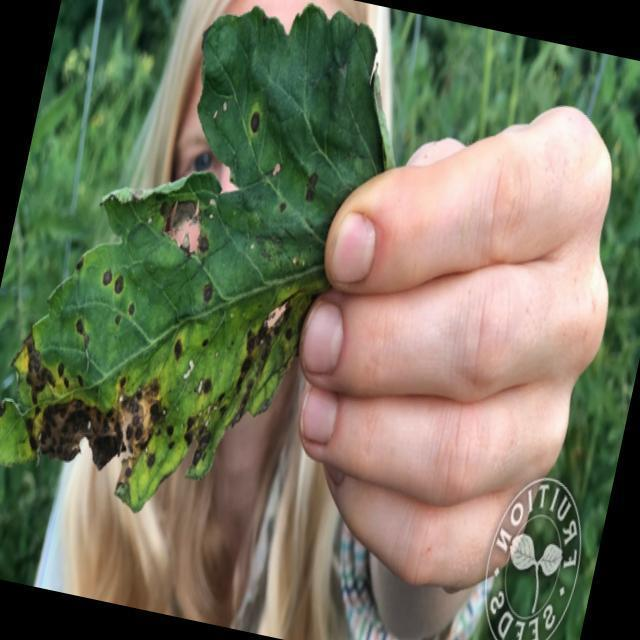Bacterial Spot: (18, 79, 348, 523)
